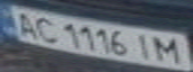1: (54, 20, 81, 48), (90, 25, 112, 54), (75, 22, 96, 52)
6: (109, 28, 133, 57)
A: (6, 9, 42, 38)
C: (30, 15, 60, 44)
I: (130, 32, 157, 61)
M: (151, 34, 187, 65)
